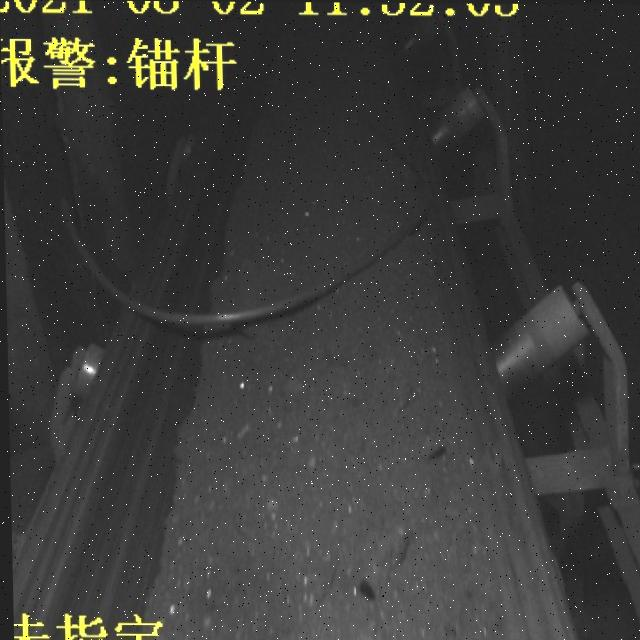bolt: (71, 245, 446, 333)
